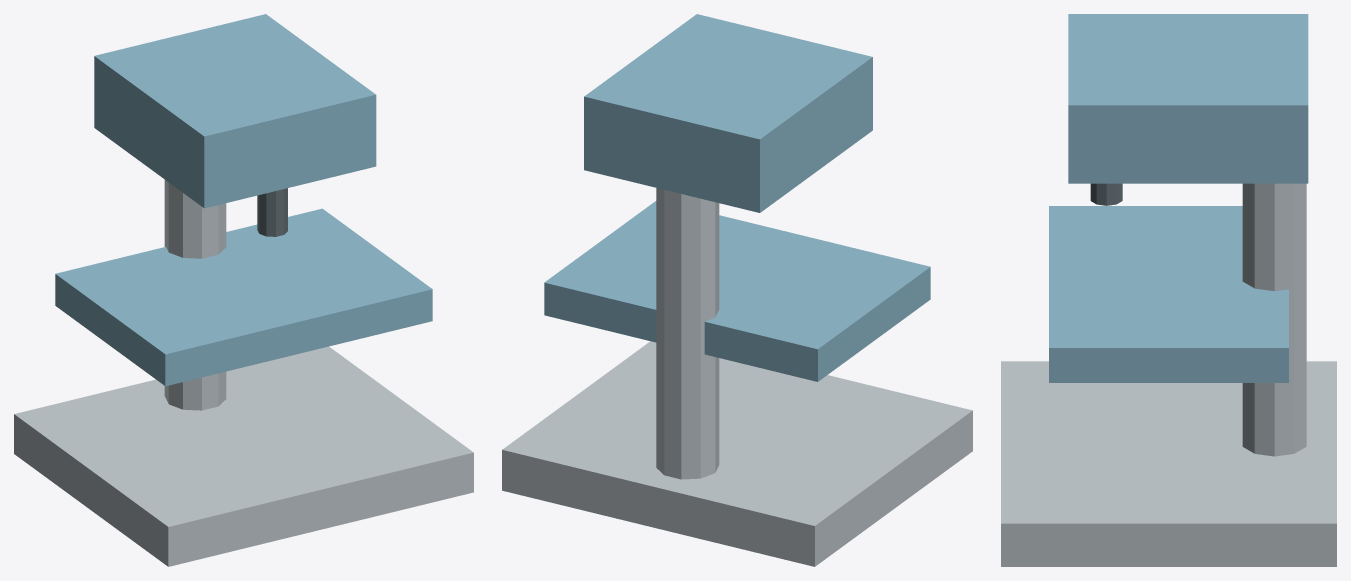
The model's file is drill_press.glb.
3 renders of one model, left to right at view 1: azimuth 30°, elevation 25°; view 2: azimuth 150°, elevation 25°; view 3: azimuth 270°, elevation 25°, orthographic. The views are drawn at different scales.
Size of the model in its own units: 0.8 by 0.98 by 0.7.
